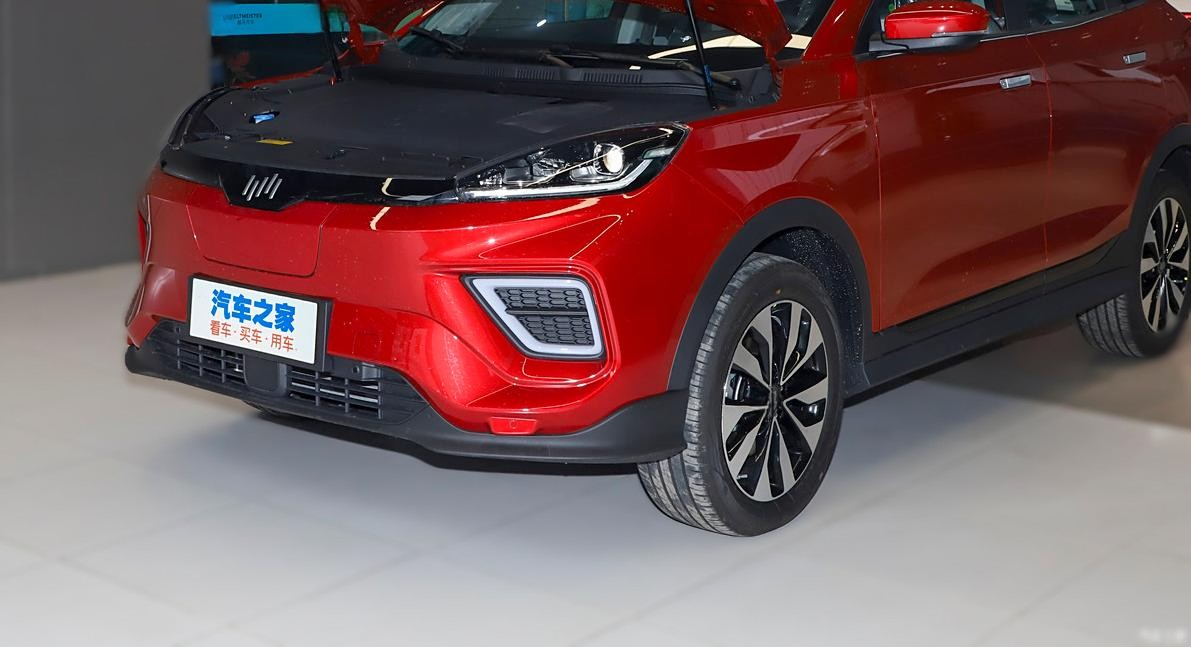WELTMEISTER: (243, 175, 281, 201)
